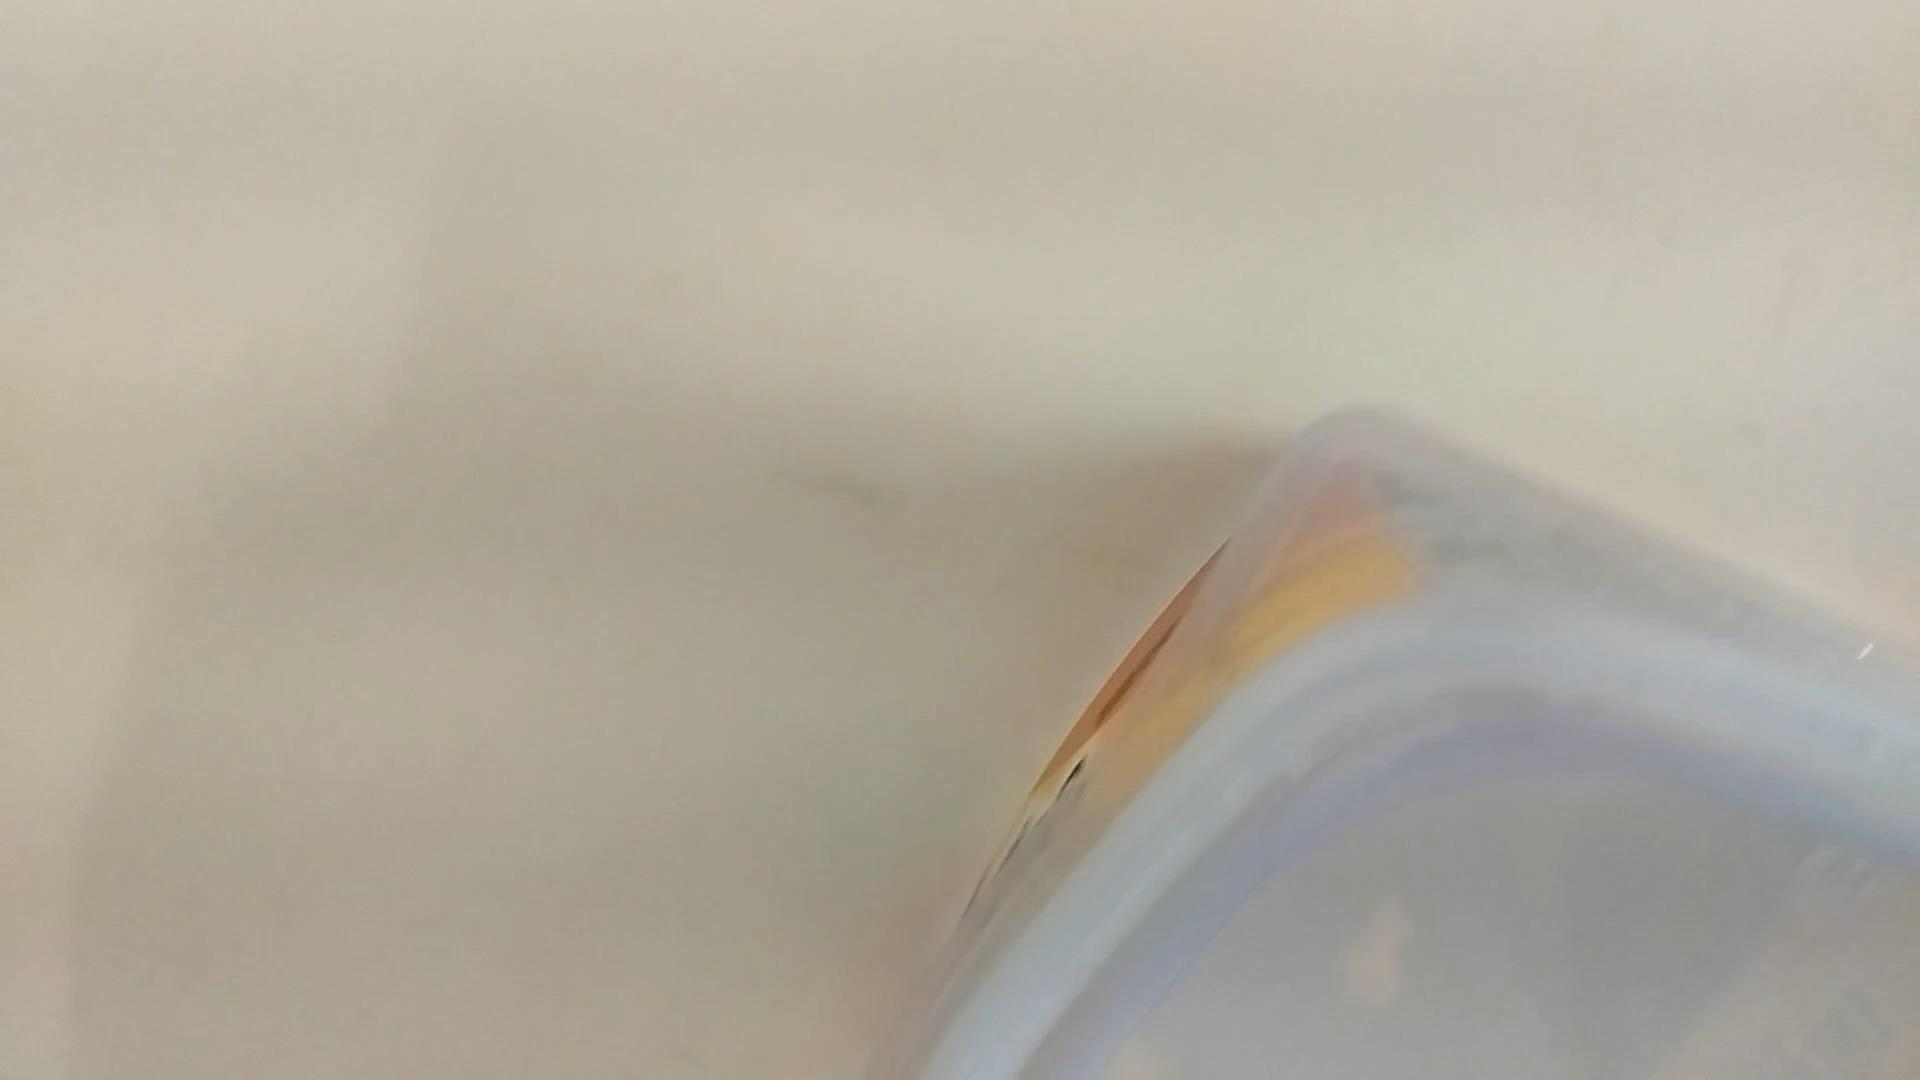butter: (861, 405, 1920, 1077)
